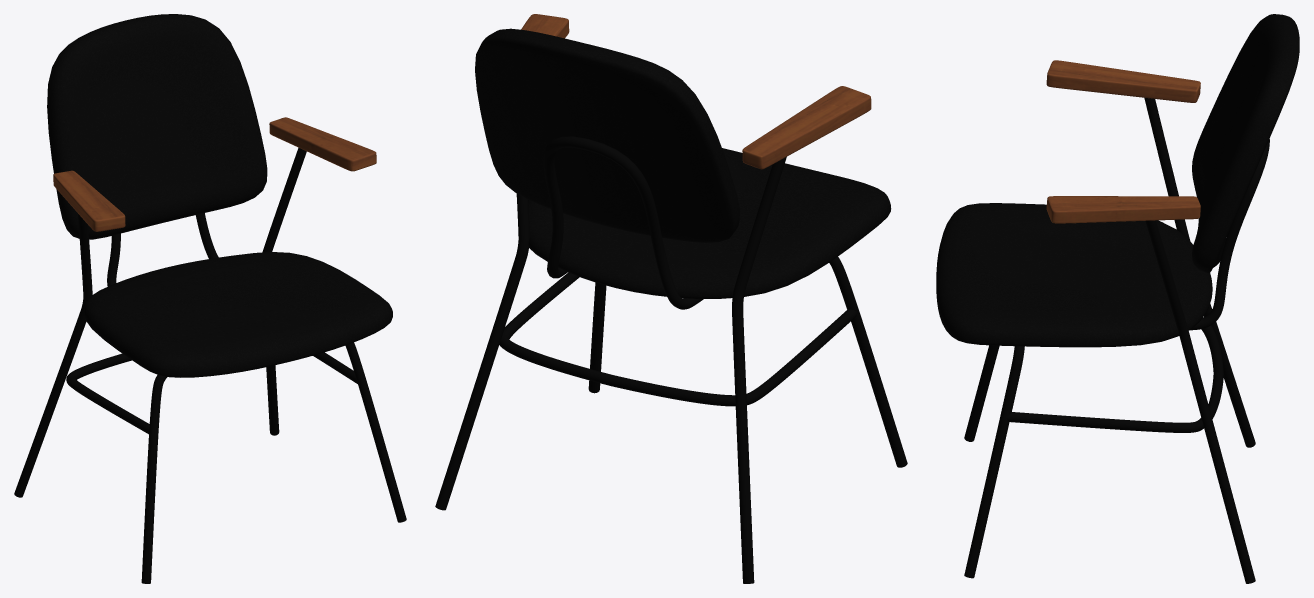
The model's file is chair_17_02.001.fbx.
3 renders of one model, left to right at view 1: azimuth 30°, elevation 25°; view 2: azimuth 150°, elevation 25°; view 3: azimuth 270°, elevation 25°, orthographic. The views are drawn at different scales.
Parts seen in each view (by area): view 1: chair_17_02.001; view 2: chair_17_02.001; view 3: chair_17_02.001.
Part boxes in pixels (x1,y1,x2,y2): chair_17_02.001: [14, 14, 406, 583]; chair_17_02.001: [435, 14, 907, 583]; chair_17_02.001: [936, 14, 1299, 583].
Size of the model in its own units: 59.3 by 86.64 by 60.07.
1 material, 1 textured.
